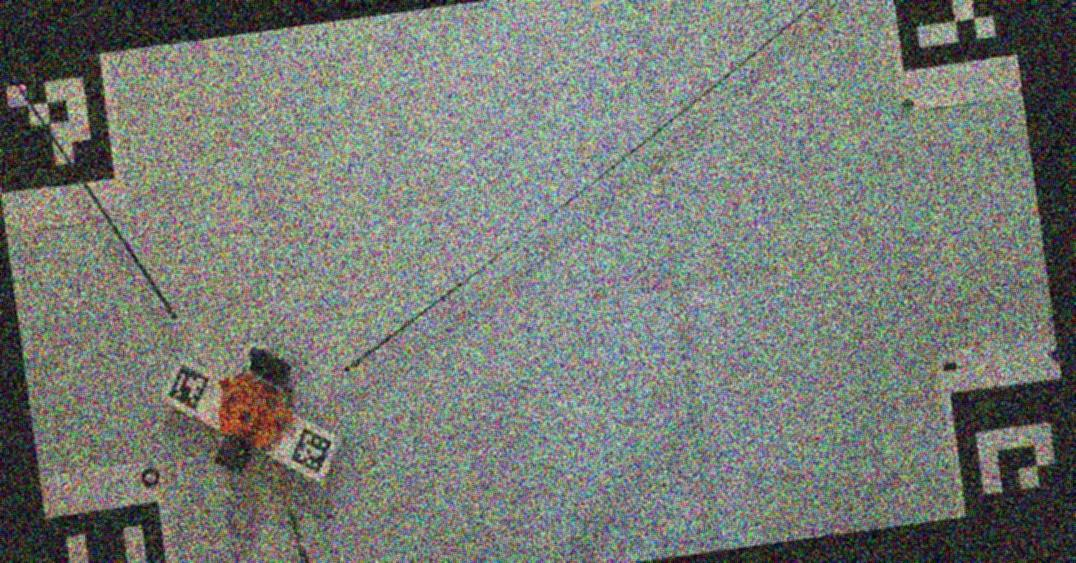robot: (213, 348, 294, 472)
